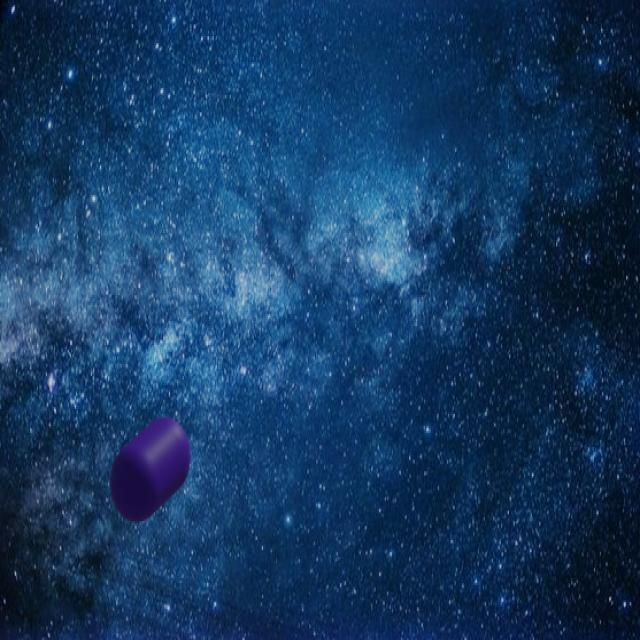large_debris: (113, 417, 192, 524)
